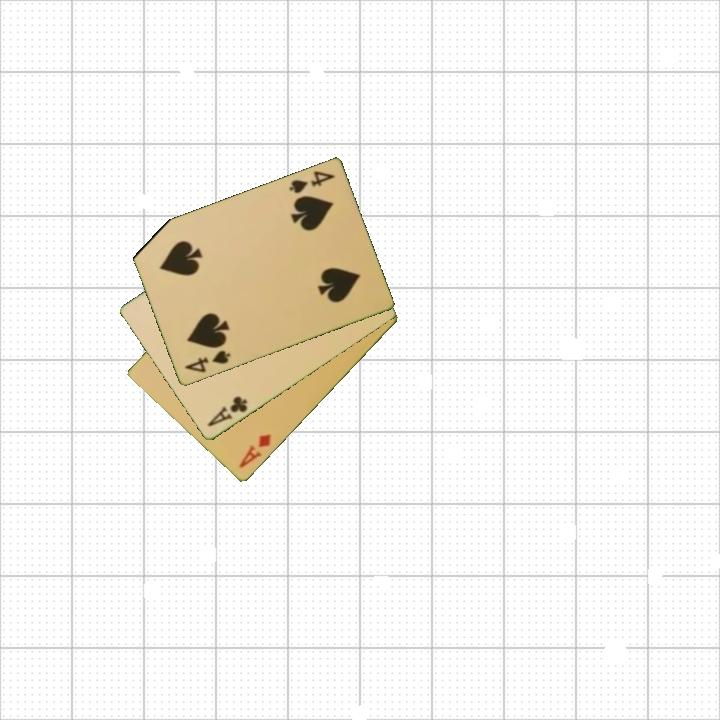4s: (181, 347, 233, 376), (285, 168, 337, 197)
Ac: (204, 393, 250, 430)
Ad: (236, 431, 274, 471)
